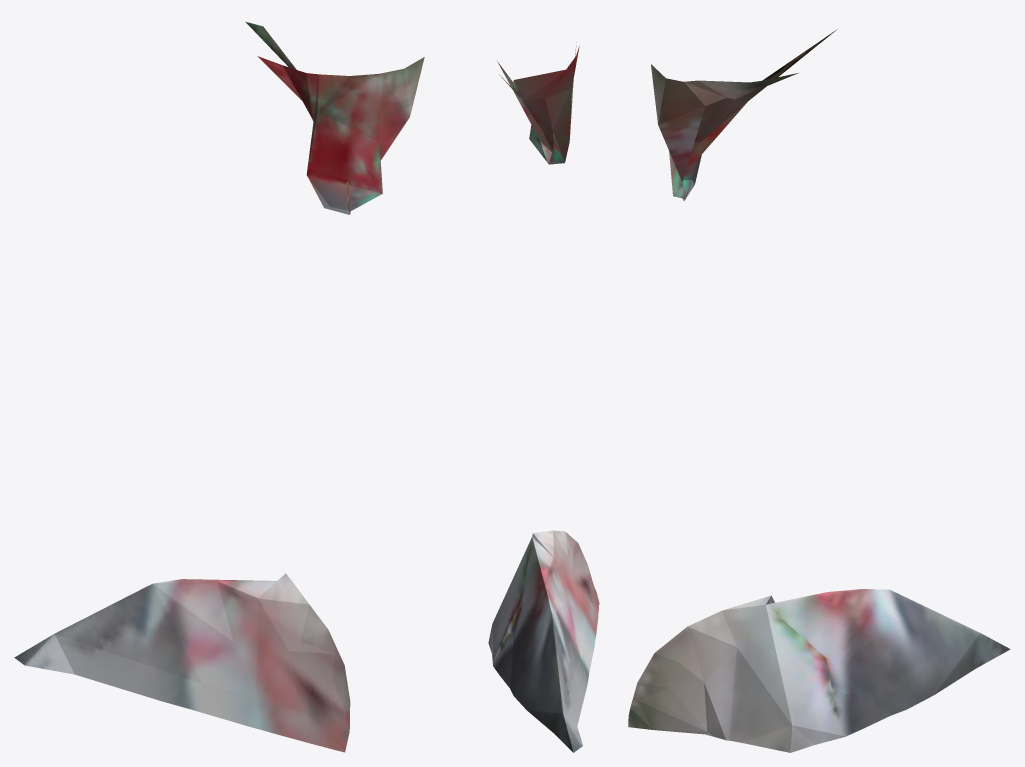
3 renders of one model, left to right at view 1: azimuth 30°, elevation 25°; view 2: azimuth 150°, elevation 25°; view 3: azimuth 270°, elevation 25°, orthographic. The views are drawn at different scales.
Bounding box in the file's own units: 0.4759 × 1.17 × 0.5816.
1 material, 1 textured.
